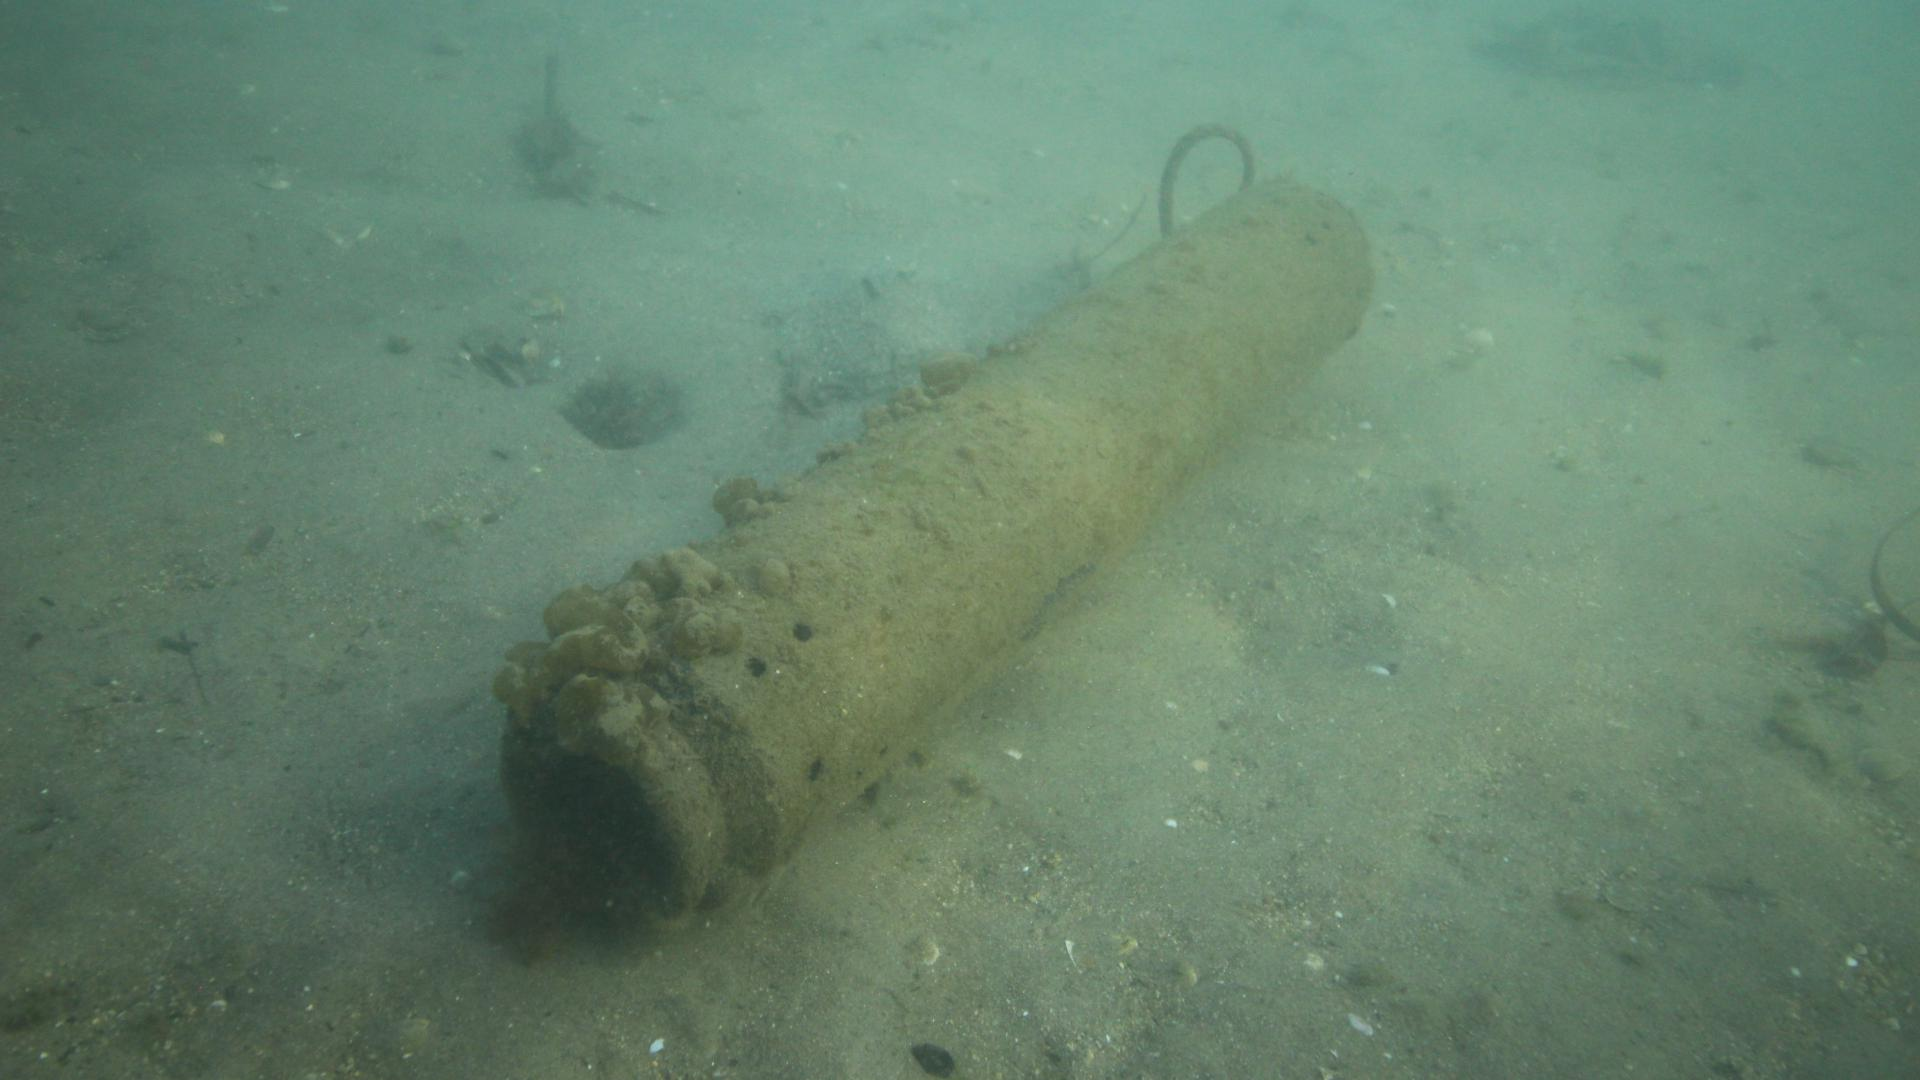eel fish trap: (495, 177, 1375, 931)
rope: (1156, 121, 1258, 233)
